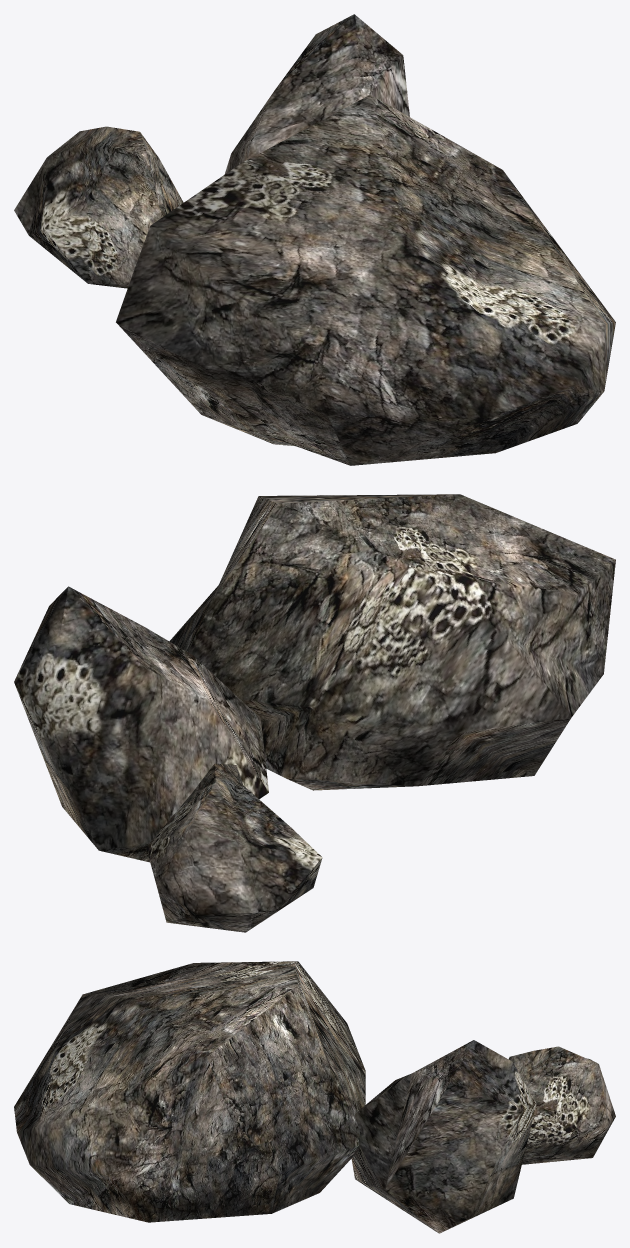
File: pir_m_prp_dvj_rockGroup_f.fbx
3 views of the same model, one above another, from view 1: azimuth 30°, elevation 25°; view 2: azimuth 150°, elevation 25°; view 3: azimuth 270°, elevation 25° (orthographic). The views are drawn at different scales.
Parts seen in each view (by area): view 1: pasted__pasted__rock_10, pasted__pasted__rock_12, pasted__pasted__rock_8; view 2: pasted__pasted__rock_10, pasted__pasted__rock_8, pasted__pasted__rock_12; view 3: pasted__pasted__rock_10, pasted__pasted__rock_8, pasted__pasted__rock_12.
Boxes of the visible parts, x1,y1,x2,y2 form: pasted__pasted__rock_10: (116, 94, 615, 465); pasted__pasted__rock_12: (14, 126, 183, 288); pasted__pasted__rock_8: (224, 14, 409, 174); pasted__pasted__rock_10: (169, 494, 615, 790); pasted__pasted__rock_8: (14, 586, 268, 862); pasted__pasted__rock_12: (146, 763, 322, 932); pasted__pasted__rock_10: (14, 961, 365, 1222); pasted__pasted__rock_8: (351, 1040, 536, 1233); pasted__pasted__rock_12: (508, 1046, 615, 1164).
Size of the model in its own units: 1484 by 962 by 2356.
Materials: 1 (1 with a texture image).
